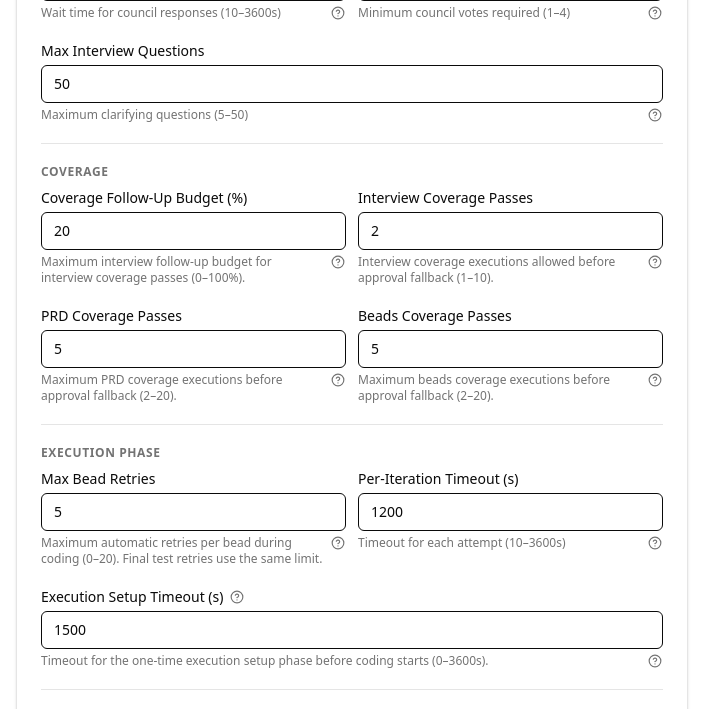
Scenario: ProfileSetup › validates PRD and beads coverage pass inputs
(page scrolled)
Replace the text in the number field named "PRD Coverage Passes" with "1". click: {"x": 194, "y": 349}
box: x1=41 y1=330 x2=346 y2=368
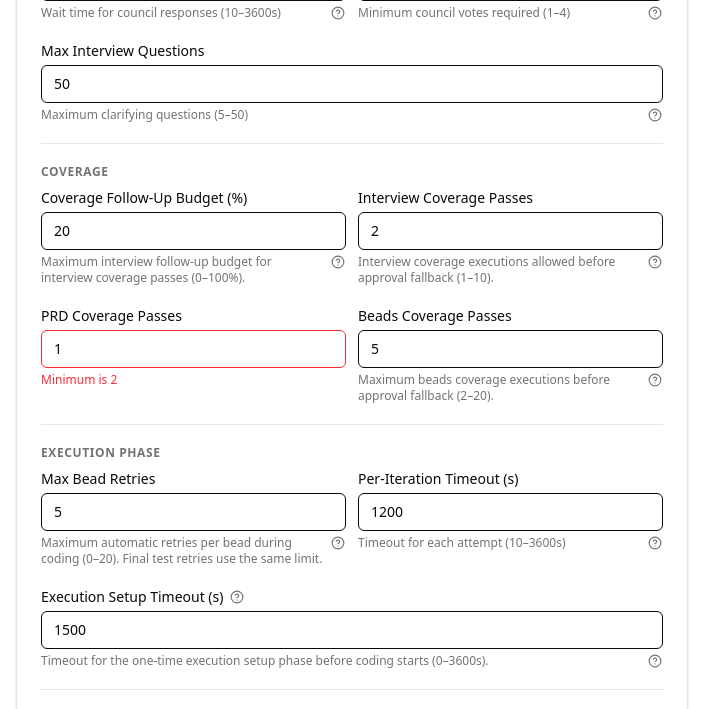
Replace the text in the number field named "Beads Coverage Passes" with "21". click: {"x": 510, "y": 349}
box: x1=358 y1=330 x2=663 y2=368
(page scrolled)
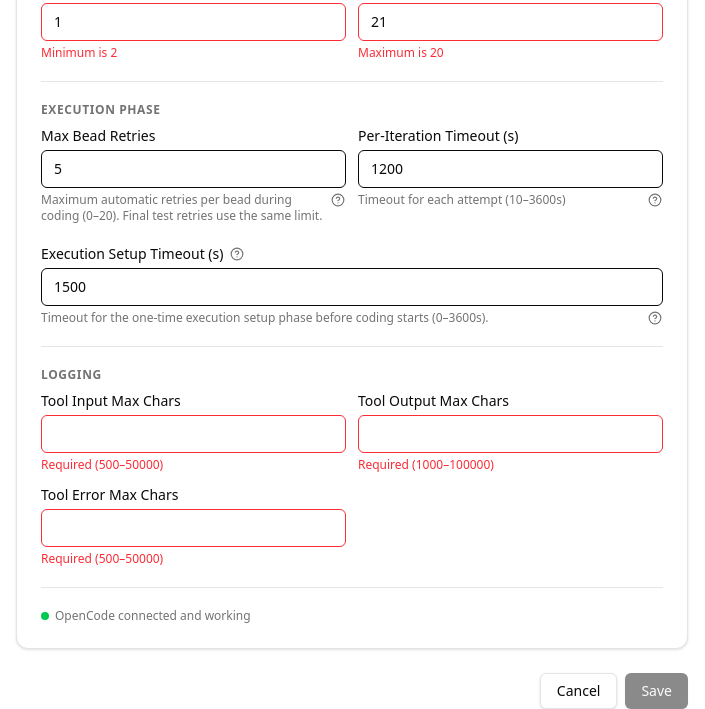
Expected: the button "Save" is disabled, x1=625 y1=673 x2=688 y2=708
Expected: the text "Minimum is 2" is shown, x1=41 y1=44 x2=117 y2=61
Expected: the text "Maximum is 20" is shown, x1=358 y1=44 x2=444 y2=61
